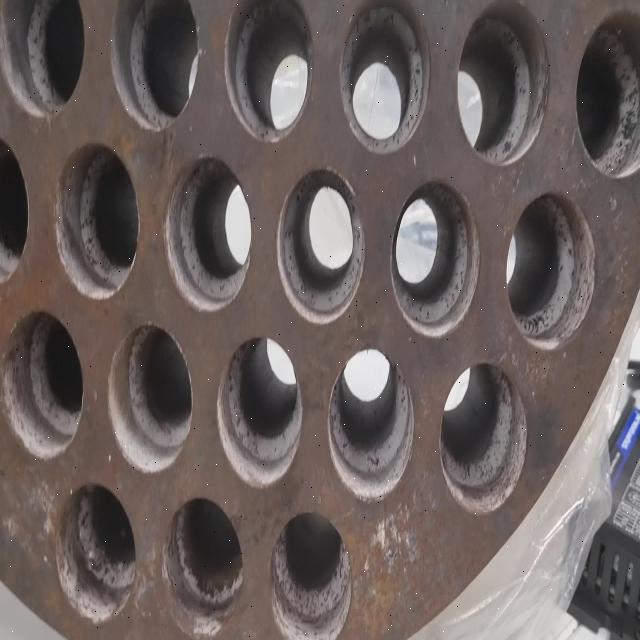Hole: (455, 2, 550, 166), (390, 176, 480, 338), (505, 192, 596, 351), (276, 168, 365, 325), (340, 1, 430, 156), (164, 155, 252, 313), (439, 362, 528, 516), (54, 142, 140, 300), (327, 347, 414, 502), (216, 334, 303, 488), (107, 323, 192, 475), (1, 308, 84, 461), (224, 0, 312, 144), (111, 0, 201, 132), (54, 480, 137, 623), (162, 495, 244, 638), (575, 10, 640, 178), (270, 510, 352, 640), (1, 0, 86, 120), (0, 129, 29, 287)
